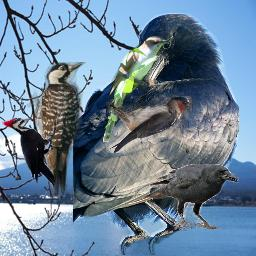Crow: (73, 13, 239, 255), (145, 164, 239, 229)
Cuckoo: (102, 36, 171, 142)
Swallow: (106, 96, 194, 153)
Woodpecker: (24, 62, 86, 204), (2, 117, 57, 190)
